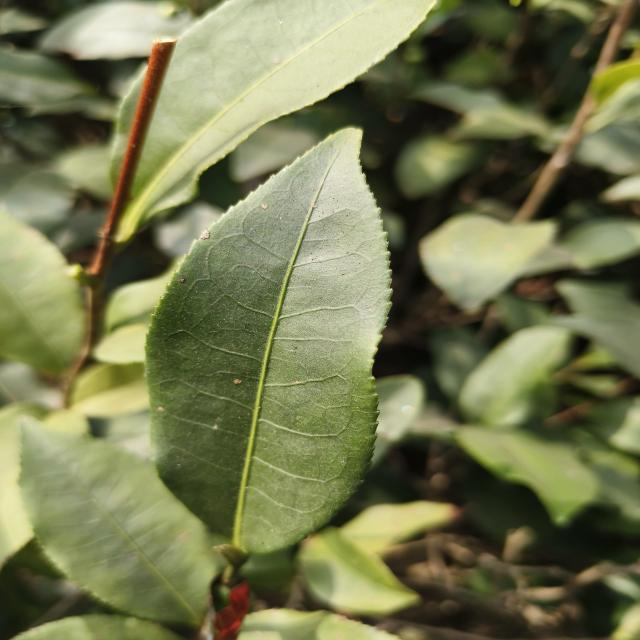Leaf: (146, 129, 389, 552), (116, 0, 432, 243), (19, 418, 222, 627), (0, 210, 86, 375), (456, 426, 599, 525), (419, 213, 555, 311), (459, 324, 571, 429), (297, 527, 420, 616), (39, 0, 193, 60), (341, 501, 456, 555), (395, 136, 482, 199), (230, 122, 318, 182), (0, 48, 89, 106), (0, 163, 73, 233), (372, 374, 426, 466), (71, 363, 149, 418), (560, 218, 640, 269)
